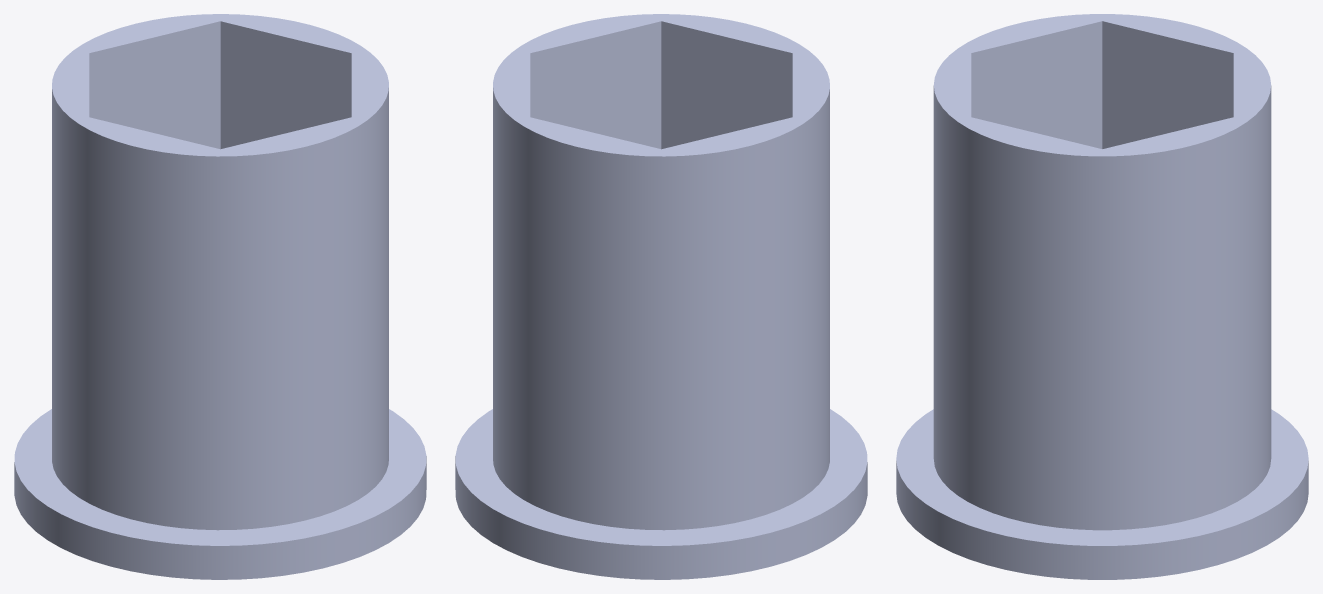
The model's file is BearingMCPSpacer.obj.
3 renders of one model, left to right at view 1: azimuth 30°, elevation 25°; view 2: azimuth 150°, elevation 25°; view 3: azimuth 270°, elevation 25°, orthographic.
Visible parts, largest first — view 1: mesh0, mesh2, mesh3, mesh7, mesh6, mesh1; view 2: mesh0, mesh2, mesh3, mesh10, mesh5, mesh1; view 3: mesh0, mesh2, mesh3, mesh8, mesh9, mesh1.
Boxes of the visible parts, <box> form: mesh0: <box>52,88,388,530</box>; mesh2: <box>14,456,426,579</box>; mesh3: <box>52,14,388,156</box>; mesh7: <box>89,21,220,149</box>; mesh6: <box>220,21,351,148</box>; mesh1: <box>14,409,426,545</box>; mesh0: <box>493,88,829,530</box>; mesh2: <box>455,456,867,579</box>; mesh3: <box>493,14,829,156</box>; mesh10: <box>661,21,792,149</box>; mesh5: <box>530,21,661,148</box>; mesh1: <box>455,409,867,545</box>; mesh0: <box>933,86,1271,530</box>; mesh2: <box>896,461,1308,579</box>; mesh3: <box>933,14,1271,156</box>; mesh8: <box>1102,21,1233,148</box>; mesh9: <box>971,21,1102,148</box>; mesh1: <box>896,409,1308,545</box>.
Size of the model in its own units: 0.011 by 0.012 by 0.011.
